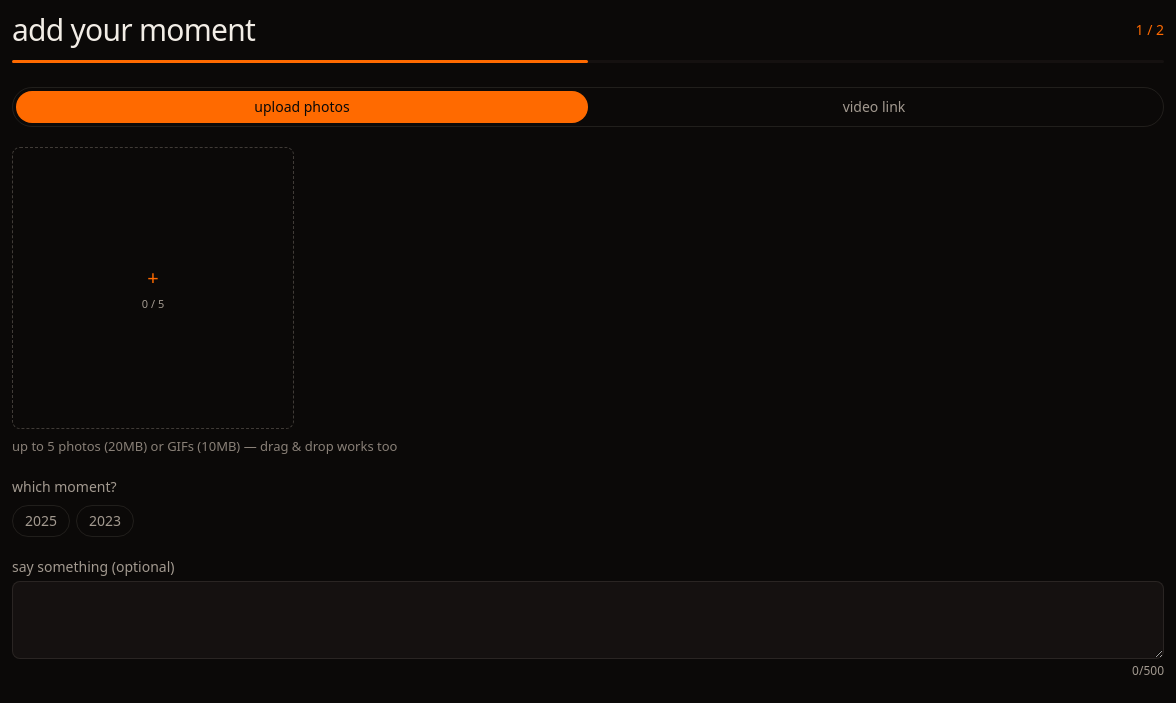
Test: UploadWizard › the mode segment switches between photos and a video link
The image size is (1176, 703).
expect the element labelled "photos" is shown: met, box [12,147,398,455]
Step 1. Click the tab "video link" → (874, 107), box [588,91,1160,123]
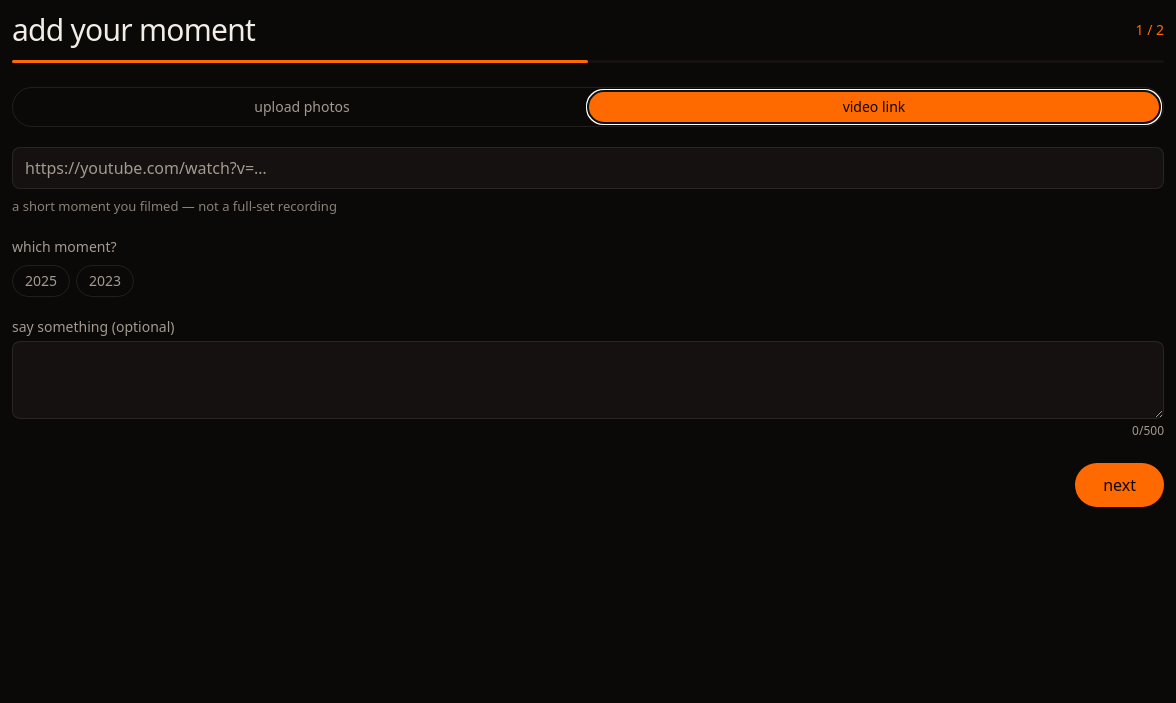
expect the field named "youtube link" is shown: met, box [12,147,1164,189]
Step 2. Click the tab "upload photos" → (302, 107), box [16,91,588,123]
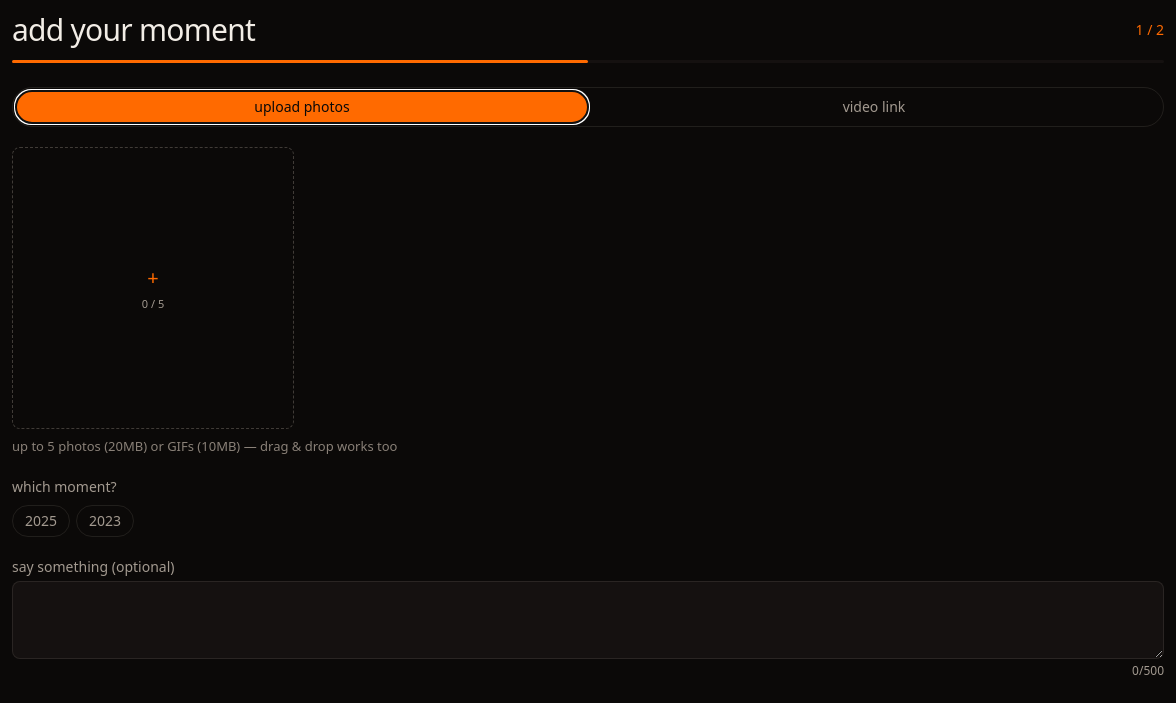
expect the element labelled "photos" is shown: met, box [12,147,398,455]
